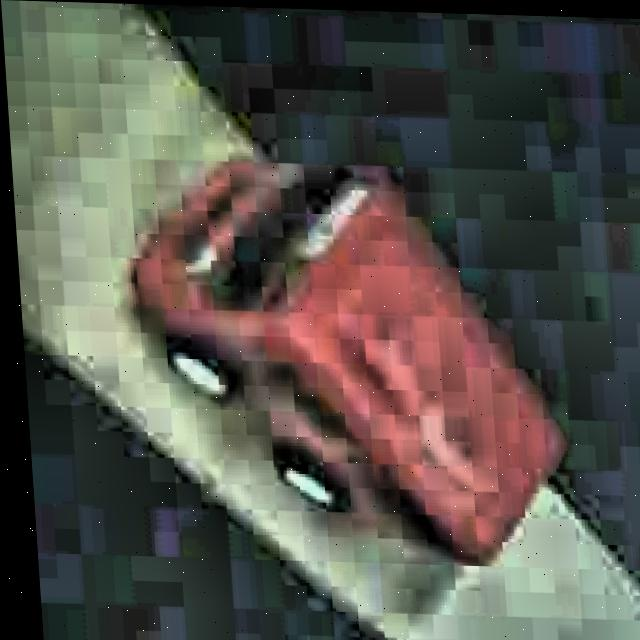bus: (116, 151, 574, 573)
